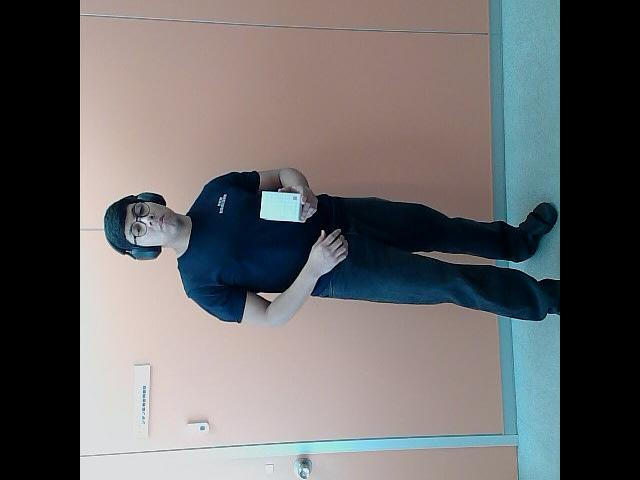Blind_box: (258, 187, 306, 223)
